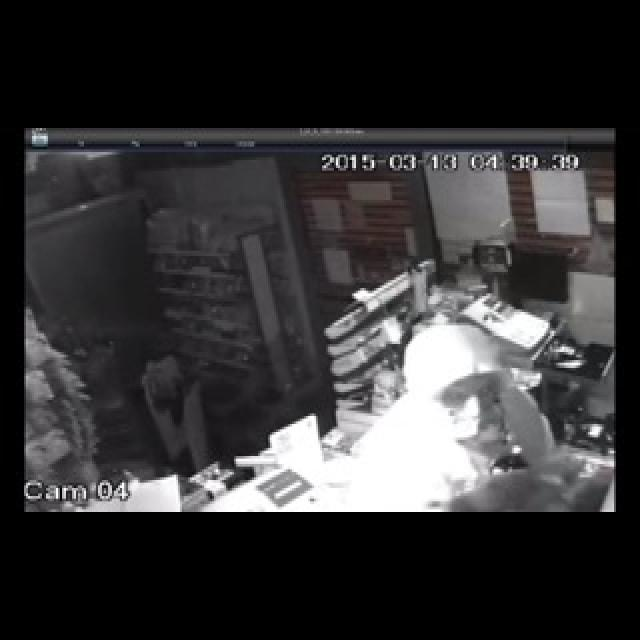thief: (348, 328, 556, 508)
